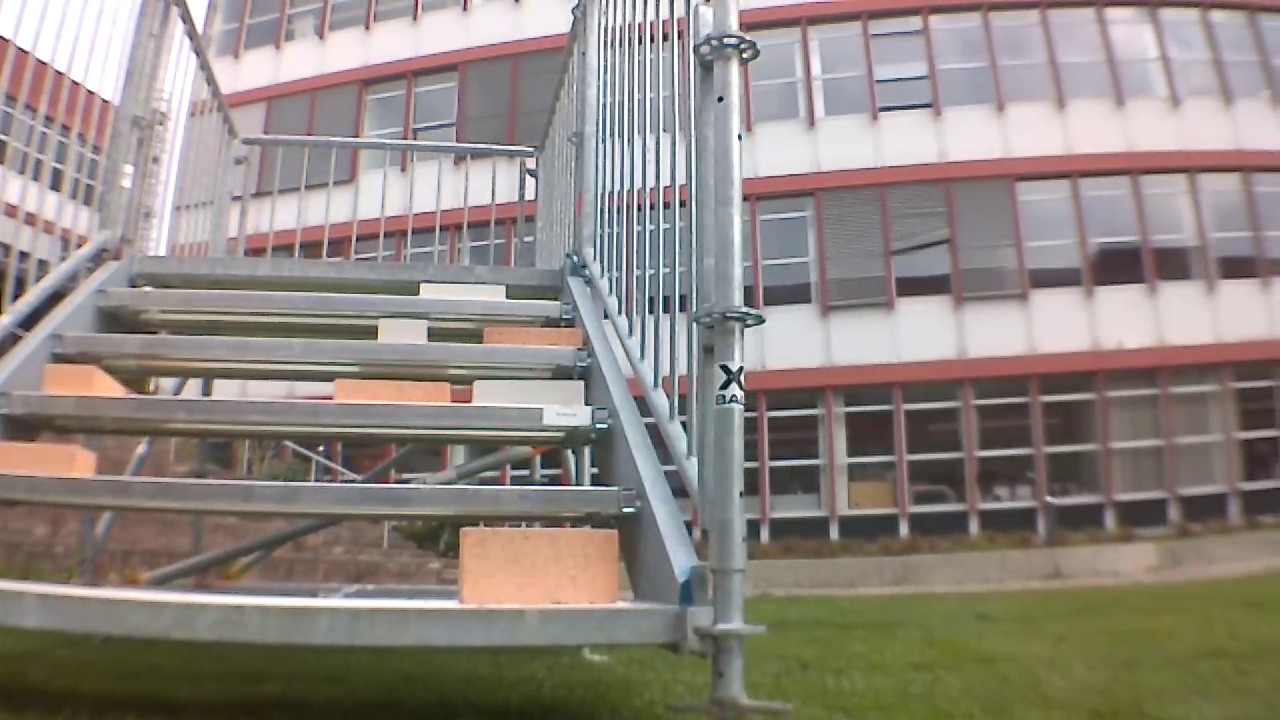brick: (449, 528, 624, 600), (0, 442, 96, 478), (471, 377, 595, 402), (40, 361, 124, 396), (329, 380, 450, 402), (481, 326, 589, 345), (370, 318, 430, 344), (416, 280, 508, 295)
edge: (0, 601, 685, 635), (0, 484, 636, 515), (43, 334, 599, 366), (0, 402, 620, 427), (86, 288, 578, 318), (133, 254, 567, 283)
stairs: (0, 0, 758, 717)
steps: (0, 256, 725, 650)
